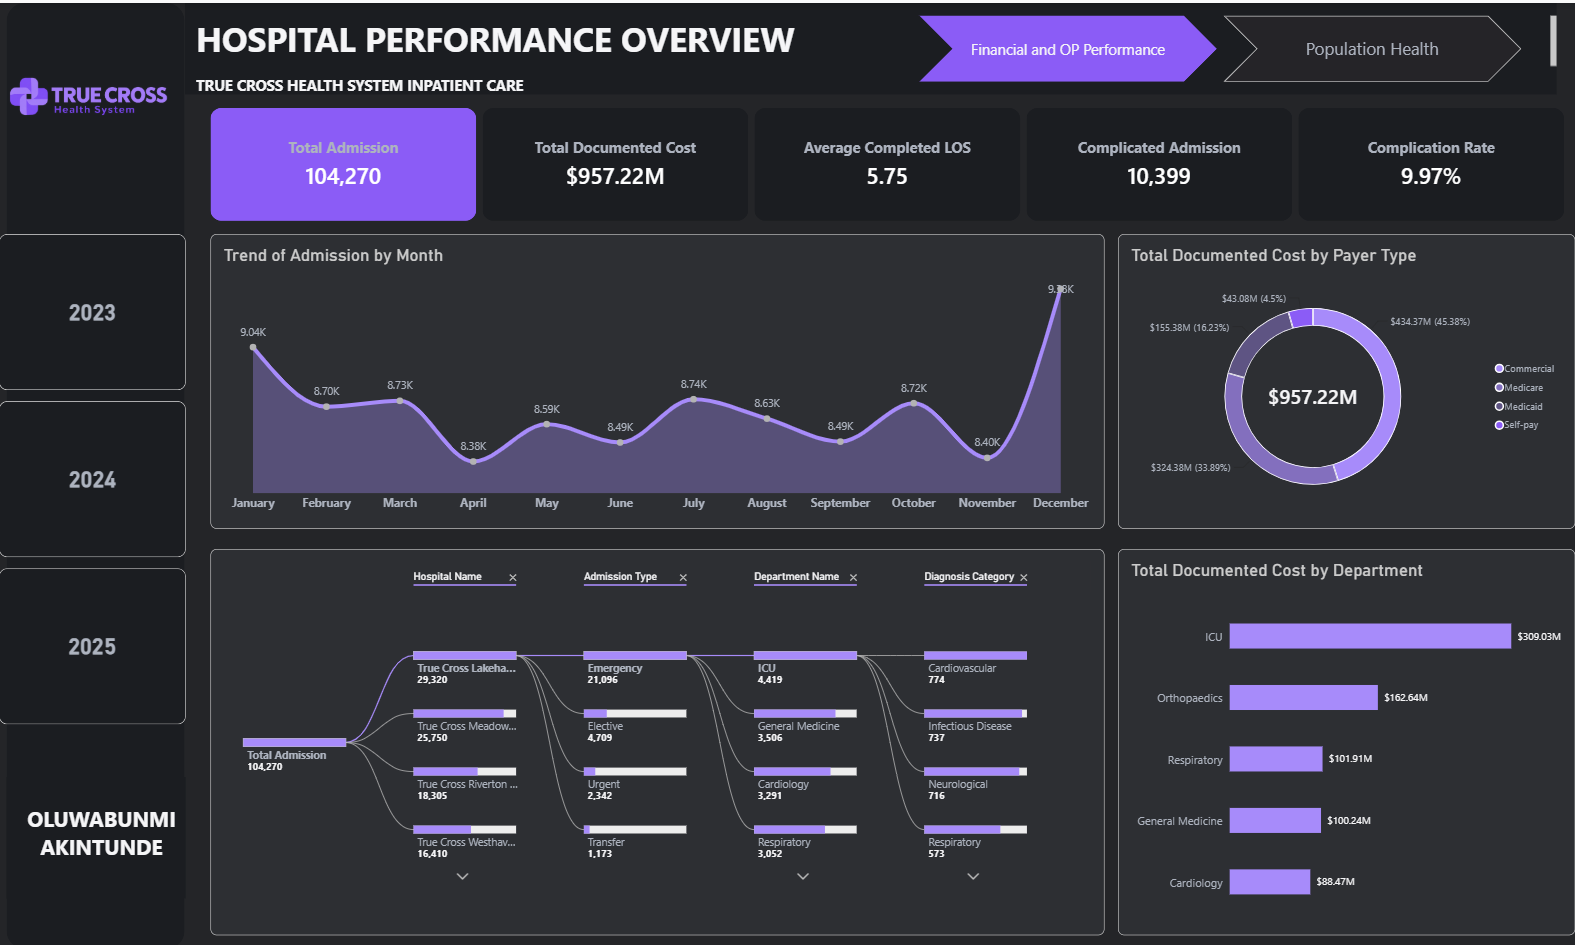

This screenshot's page, from the dashboard's own definition file:
{"tool":"powerbi","page":{"name":"Financial and OP Performance","canvas":[2000,1200],"ordinal":0},"visuals":[{"type":"shape","box":[10,0,226,1200],"z":0},{"type":"areaChart","title":"Trend of Admission by Month","fields":{"Category":["DimCalendar.Month Name"],"Y":["DimMeasure.Total Admission"]},"box":[267.4,293.4,1134,374],"z":1000},{"type":"clusteredBarChart","title":"Total Documented Cost by Department","fields":{"Category":["DimDepartment.Department_Name"],"Y":["DimMeasure.Total Documented Cost"]},"box":[1419.6,693.2,580,490],"z":2000},{"type":"decompositionTreeVisual","fields":{"Analyze":["DimMeasure.Total Admission"],"ExplainBy":["DimHospital.Hospital_Name","FactHospitalAdmissions.Admission_Type","DimDepartment.Department_Name","FactHospitalAdmissions.Diagnosis_Category"]},"box":[267.4,693.2,1134,490],"z":3000},{"type":"donutChart","title":"Total Documented Cost by Payer Type","fields":{"Category":["FactHospitalAdmissions.Payer_Type"],"Y":["DimMeasure.Total Documented Cost"]},"box":[1419.6,293.4,580,374],"z":4000},{"type":"cardVisual","fields":{"Data":["DimMeasure.Total Admission","DimMeasure.Total Documented Cost","DimMeasure.Average Completed LOS","DimMeasure.Complicated Admission","DimMeasure.Complication Rate"]},"box":[267.4,132.5,1720,143],"z":5000},{"type":"textbox","box":[236.6,0,1740,115.9],"z":6000},{"type":"advancedSlicerVisual","fields":{"Values":["DimCalendar.Year"]},"box":[0,292.4,237.7,622.8],"z":7000},{"type":"textbox","box":[9.5,981.9,227.1,153.8],"z":8000},{"type":"image","box":[0,0,225.8,235.3],"z":9000},{"type":"pageNavigator","box":[1152.9,0,794,116.5],"z":10000}]}

Visuals, with their boxes in screenshot pixels (x1, y1, x2, y2), scaled from the page's 2000x1200 canvas onto the 1575x945 screenshot:
shape: 8/0/186/944
"Trend of Admission by Month" areaChart: 211/231/1104/526
"Total Documented Cost by Department" clusteredBarChart: 1118/546/1574/932
decompositionTreeVisual - DimMeasure.Total Admission x DimHospital.Hospital_Name: 211/546/1104/932
"Total Documented Cost by Payer Type" donutChart: 1118/231/1574/526
cardVisual - DimMeasure.Total Admission x DimMeasure.Total Documented Cost: 211/104/1565/217
textbox: 186/0/1557/91
advancedSlicerVisual - DimCalendar.Year: 0/230/187/721
textbox: 7/773/186/894
image: 0/0/178/185
pageNavigator: 908/0/1533/92
